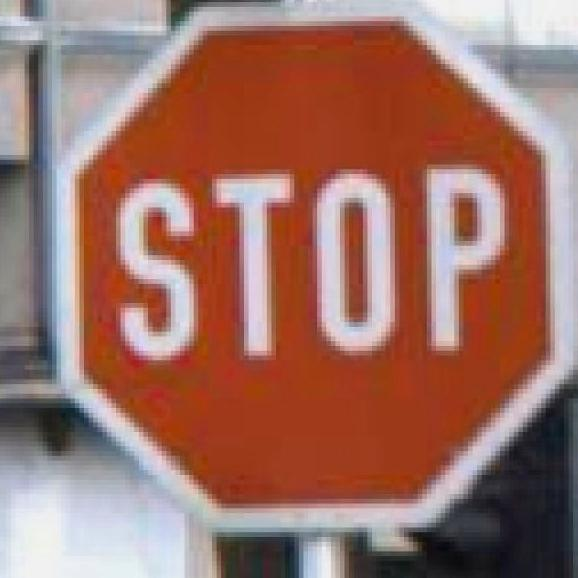stop_sign: (47, 0, 573, 527)
